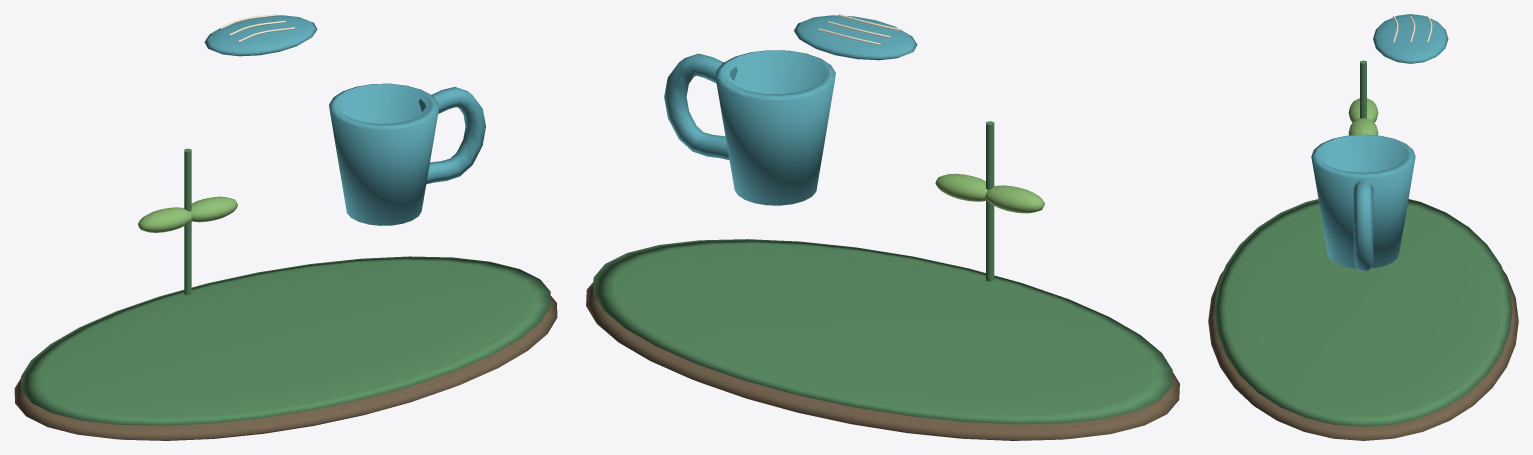
The model's file is complete-third-alive-pouring-energy.glb.
3 renders of one model, left to right at view 1: azimuth 30°, elevation 25°; view 2: azimuth 150°, elevation 25°; view 3: azimuth 270°, elevation 25°, orthographic. The views are drawn at different scales.
Visible parts, largest first — view 1: complete-third-alive-pouring-energy_surface_01, complete-third-alive-pouring-energy_surface_03, complete-third-alive-pouring-energy_surface_00, complete-third-alive-pouring-energy_surface_02; view 2: complete-third-alive-pouring-energy_surface_01, complete-third-alive-pouring-energy_surface_03, complete-third-alive-pouring-energy_surface_00, complete-third-alive-pouring-energy_surface_02, complete-third-alive-pouring-energy_surface_04; view 3: complete-third-alive-pouring-energy_surface_01, complete-third-alive-pouring-energy_surface_03, complete-third-alive-pouring-energy_surface_00, complete-third-alive-pouring-energy_surface_02.
Part boxes in pixels (left/top/right/bottom): complete-third-alive-pouring-energy_surface_01: left=21, top=148, right=550, bottom=425; complete-third-alive-pouring-energy_surface_03: left=204, top=15, right=485, bottom=225; complete-third-alive-pouring-energy_surface_00: left=14, top=296, right=557, bottom=440; complete-third-alive-pouring-energy_surface_02: left=138, top=196, right=237, bottom=232; complete-third-alive-pouring-energy_surface_01: left=593, top=121, right=1172, bottom=424; complete-third-alive-pouring-energy_surface_03: left=664, top=15, right=917, bottom=205; complete-third-alive-pouring-energy_surface_00: left=586, top=282, right=1179, bottom=440; complete-third-alive-pouring-energy_surface_02: left=935, top=173, right=1044, bottom=213; complete-third-alive-pouring-energy_surface_04: left=818, top=14, right=900, bottom=45; complete-third-alive-pouring-energy_surface_01: left=1214, top=60, right=1512, bottom=426; complete-third-alive-pouring-energy_surface_03: left=1311, top=14, right=1448, bottom=271; complete-third-alive-pouring-energy_surface_00: left=1208, top=270, right=1518, bottom=440; complete-third-alive-pouring-energy_surface_02: left=1348, top=98, right=1378, bottom=135.
Size of the model in its own units: 4.56 by 2.72 by 2.5.
